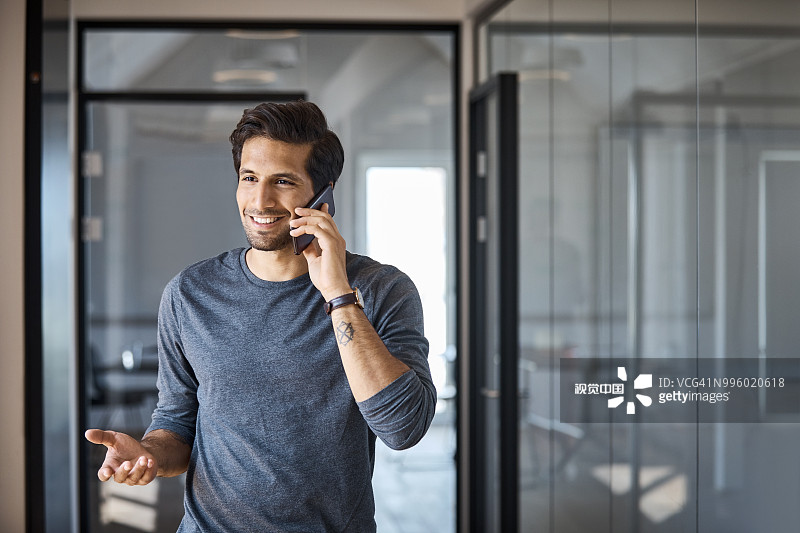calling: (277, 183, 378, 311)
no-phone: (61, 416, 181, 504)
